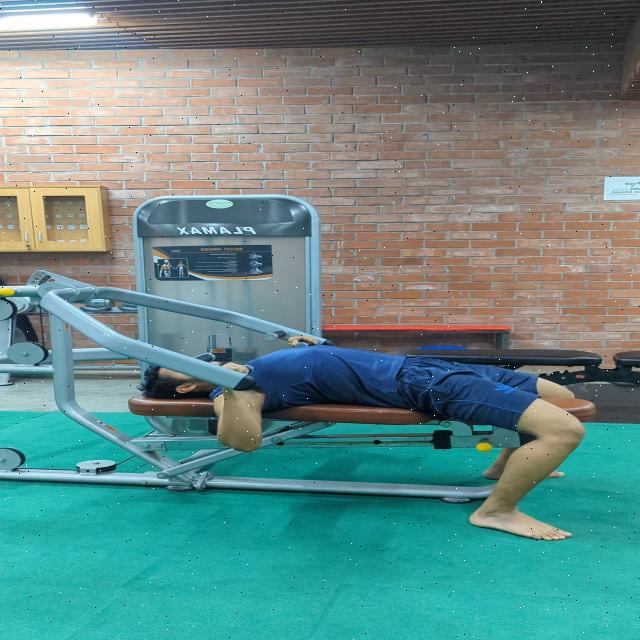Normal_BrenchPress: (111, 314, 626, 556)
